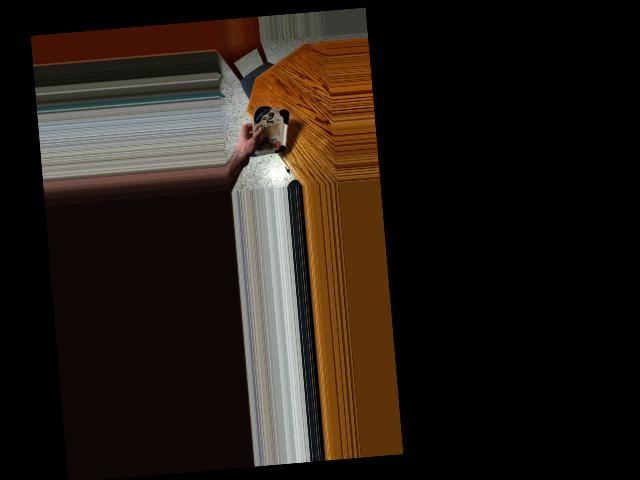cheese: (244, 103, 292, 158)
